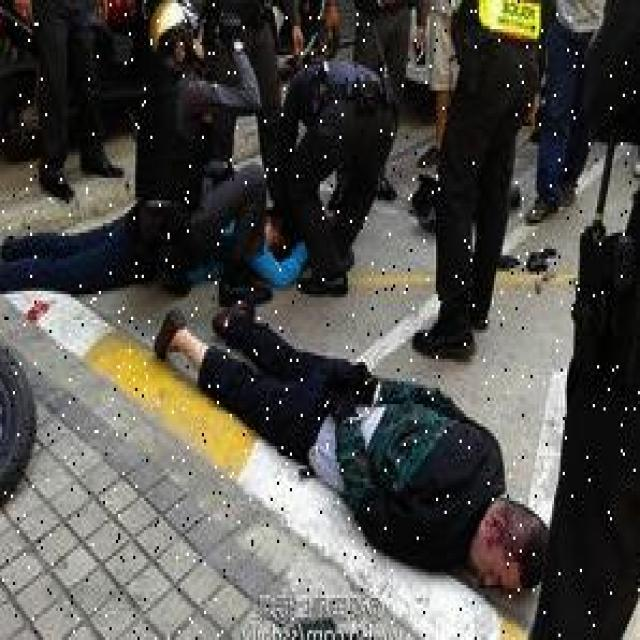fall: (168, 294, 541, 594)
